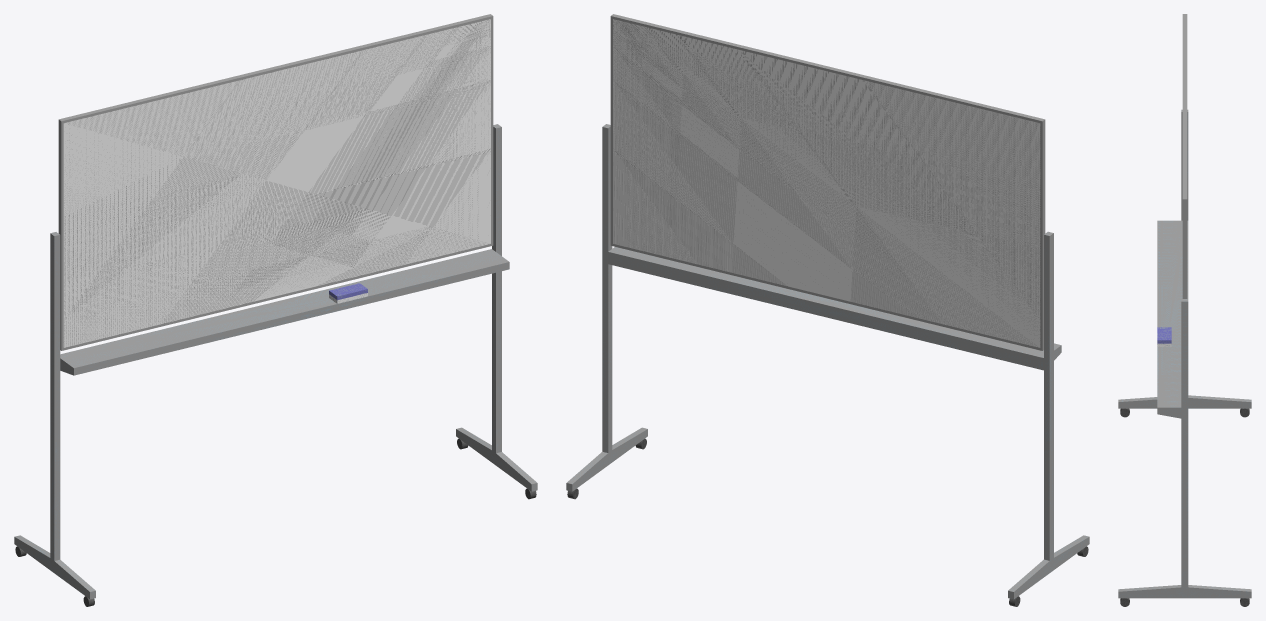
Rendered from white_bord.dae.
The picture shows the model from 3 angles, left to right: view 1: azimuth 30°, elevation 25°; view 2: azimuth 150°, elevation 25°; view 3: azimuth 270°, elevation 25°; orthographic projection. The views are drawn at different scales.
Visible parts, largest first — view 1: group_1 (×2), group_3; view 2: group_1 (×2), group_3; view 3: group_3, group_1, group_5.
Boxes of the visible parts, x1,y1,x2,y2 form: group_1 (×2): [58, 14, 493, 350]; group_3: [14, 124, 537, 599]; group_1 (×2): [610, 14, 1045, 350]; group_3: [566, 124, 1089, 599]; group_3: [1118, 109, 1251, 598]; group_1: [1182, 14, 1187, 298]; group_5: [1157, 327, 1171, 343].
Bounding box in the file's own units: 74.65 × 21.85 × 73.23.
